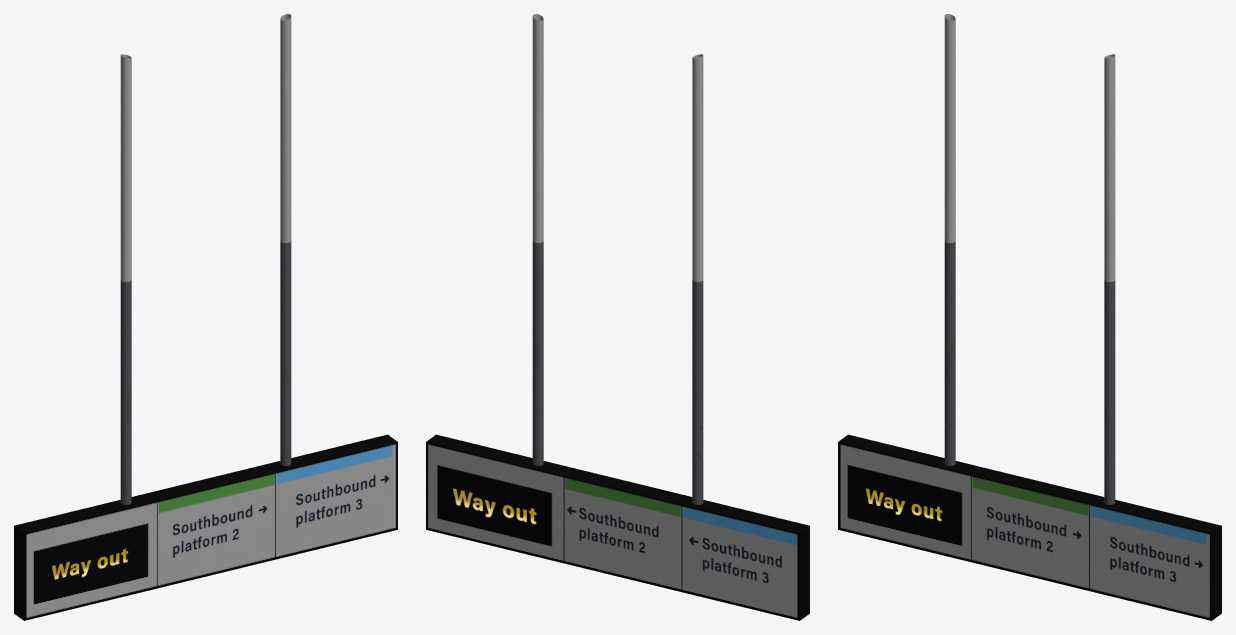
File: way_out_sign.glb
3 renders of one model, left to right at view 1: azimuth 30°, elevation 25°; view 2: azimuth 150°, elevation 25°; view 3: azimuth 330°, elevation 25°, orthographic.
Parts seen in each view (by area): view 1: SM_Information_sign; view 2: SM_Information_sign; view 3: SM_Information_sign.
Boxes of the visible parts, bbox=[...] form: SM_Information_sign: bbox=[14, 14, 397, 620]; SM_Information_sign: bbox=[426, 14, 809, 620]; SM_Information_sign: bbox=[838, 14, 1221, 620].
Bounding box in the file's own units: 2.18 × 2.99 × 0.1015.
1 material, 1 textured.
